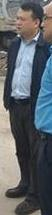boots: (3, 186, 28, 198)
gloves: (0, 67, 7, 88)
hard-hat: (0, 0, 26, 22)
